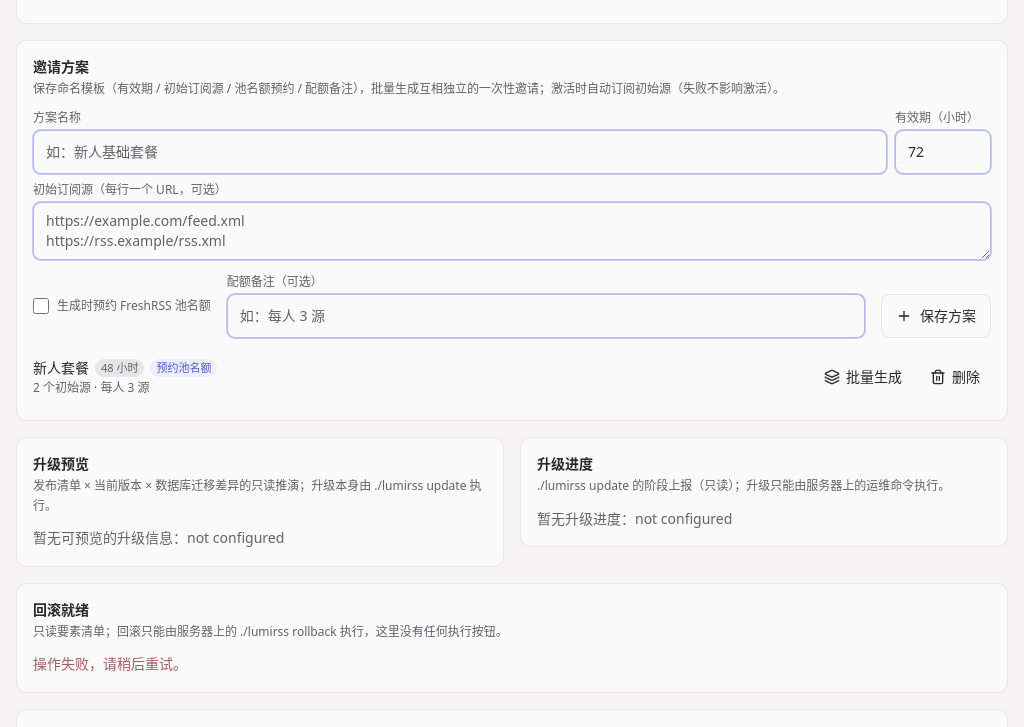
Test: 邀请方案（N001） › 批量生成对话框：输入数量 → 生成 N 个一次性链接（只显示一次）
(page scrolled)
expect the list with test id "scheme-list" is shown: met, box [33,350,991,404]
Click the button with test id "scheme-generate-s1".
click(863, 377)  # box [813,361,913,393]
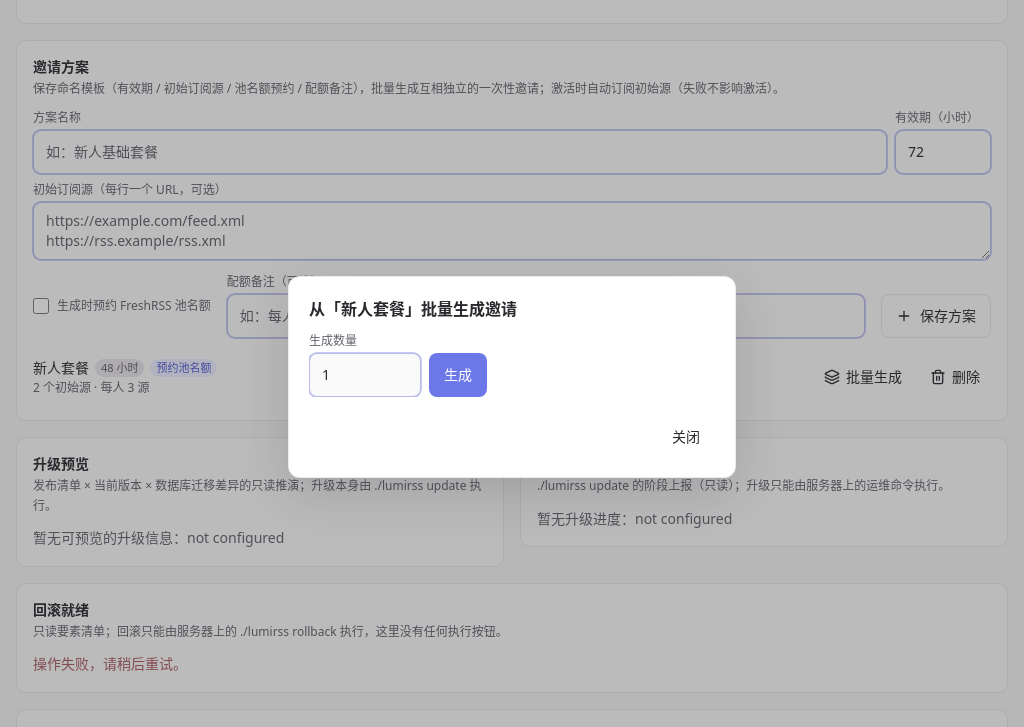
expect the dialog shows "从「新人套餐」批量生成邀请": met, box [309,298,517,320]
Replace the text in the number field labelled "生成数量" with "2" at (365, 375), box [309,353,421,397]
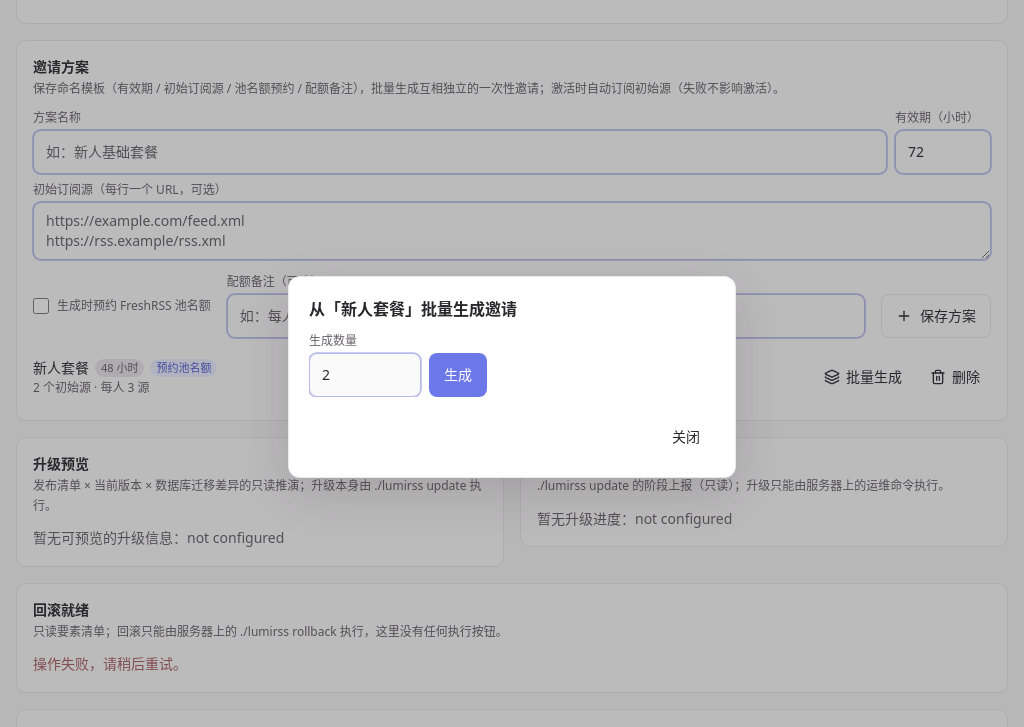
Click the button "生成".
click(458, 375)  # box [429,353,487,397]
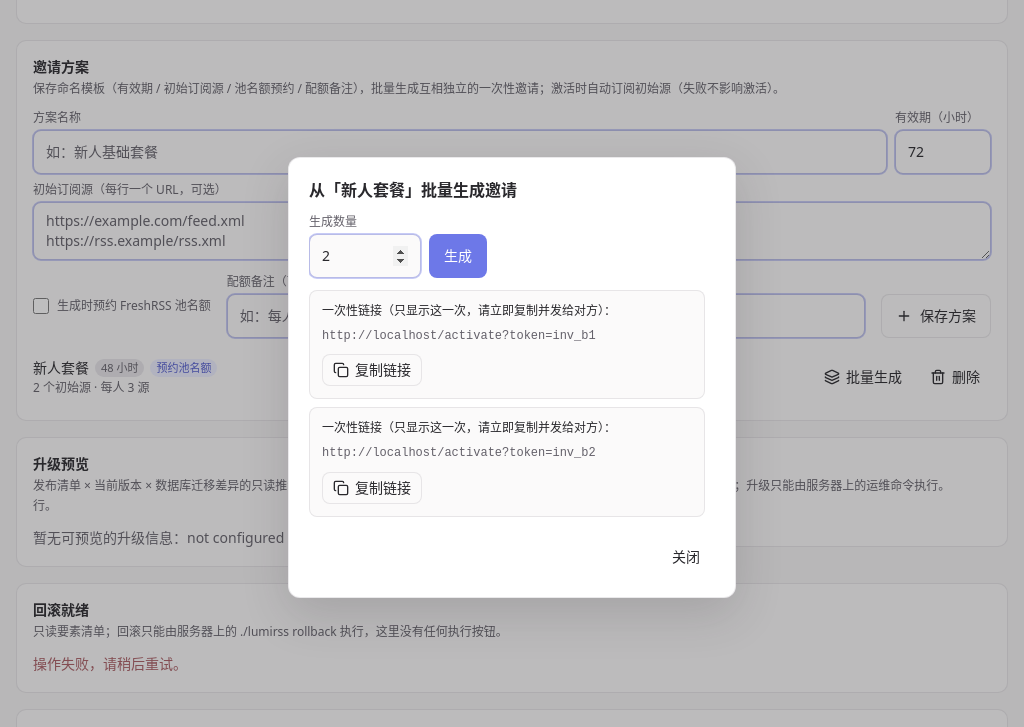
expect the number of elements with test id "one-time-link" is 2: met, box [309,290,705,399]; [309,407,705,516]
expect the element with test id "one-time-link" shows "token=inv_b1": met, box [322,328,596,342]
expect the element with test id "one-time-link" shows "token=inv_b2": met, box [322,446,596,460]
